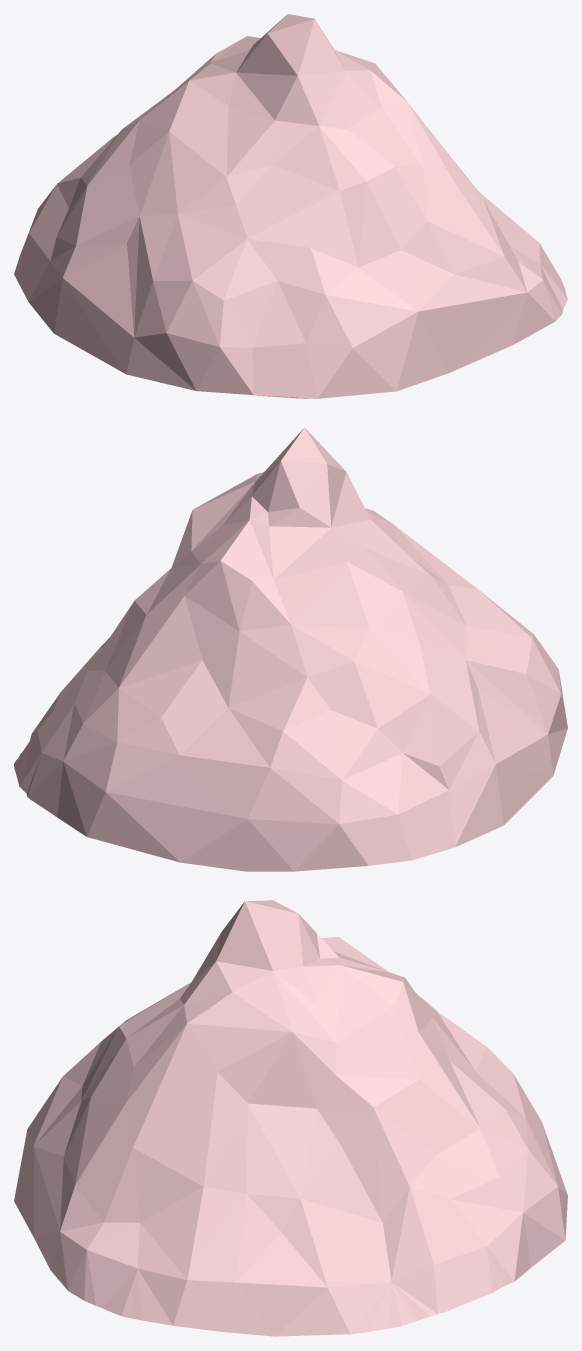
The model's file is salt-pile.obj.
The picture shows the model from 3 angles, top to bottom: view 1: azimuth 30°, elevation 25°; view 2: azimuth 150°, elevation 25°; view 3: azimuth 270°, elevation 25°; orthographic projection. The views are drawn at different scales.
Visible parts, largest first — view 1: Sphere; view 2: Sphere; view 3: Sphere.
Boxes of the visible parts, bbox=[...] form: Sphere: bbox=[14, 14, 567, 398]; Sphere: bbox=[14, 427, 567, 871]; Sphere: bbox=[14, 900, 567, 1336].
Size of the model in its own units: 2.02 by 1.33 by 2.05.
